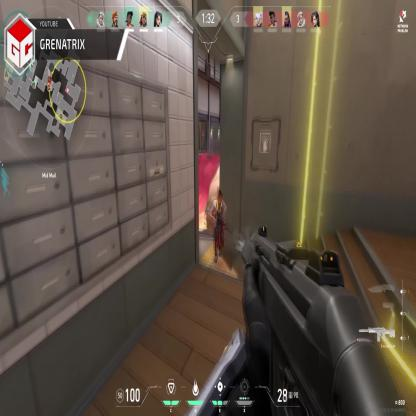enemy: (212, 188, 227, 263)
enemy_head: (217, 190, 223, 200)
